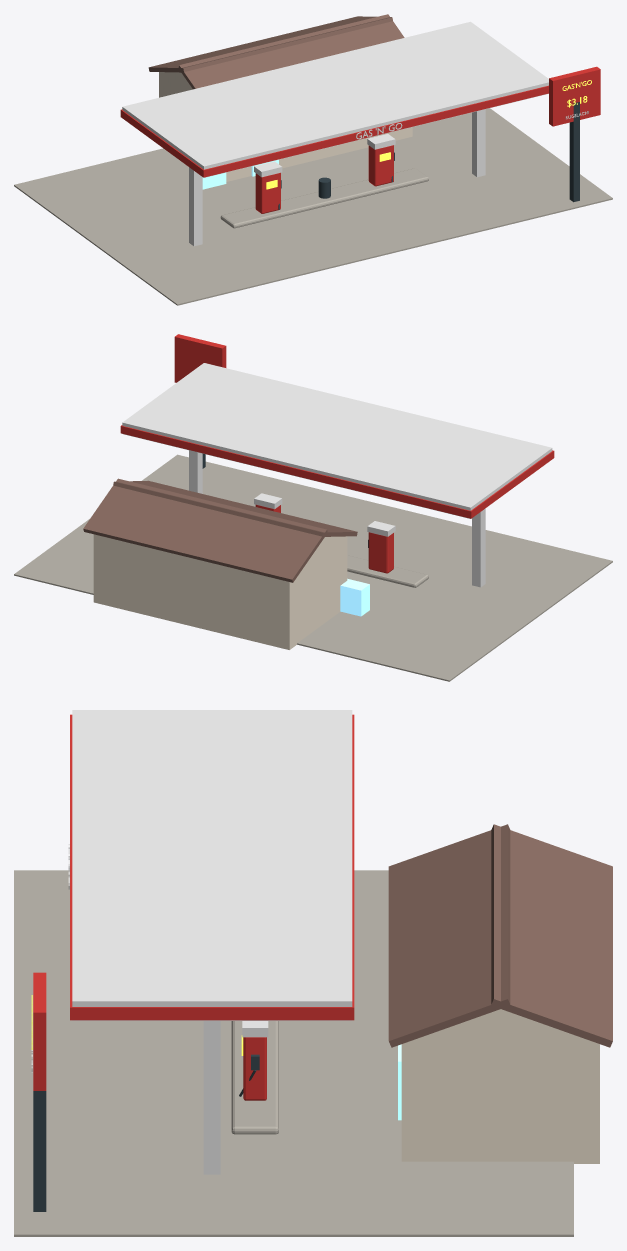
The model's file is world_gas.glb.
3 views of the same model, one above another, from view 1: azimuth 30°, elevation 25°; view 2: azimuth 150°, elevation 25°; view 3: azimuth 270°, elevation 25° (orthographic). The views are drawn at different scales.
Visible parts, largest first — view 1: WorldGas_body; view 2: WorldGas_body; view 3: WorldGas_body.
Boxes of the visible parts, <box> form: WorldGas_body: <box>14,14,612,305</box>; WorldGas_body: <box>14,334,612,681</box>; WorldGas_body: <box>14,710,612,1236</box>.
Size of the model in its own units: 20 by 5.6 by 13.9.
